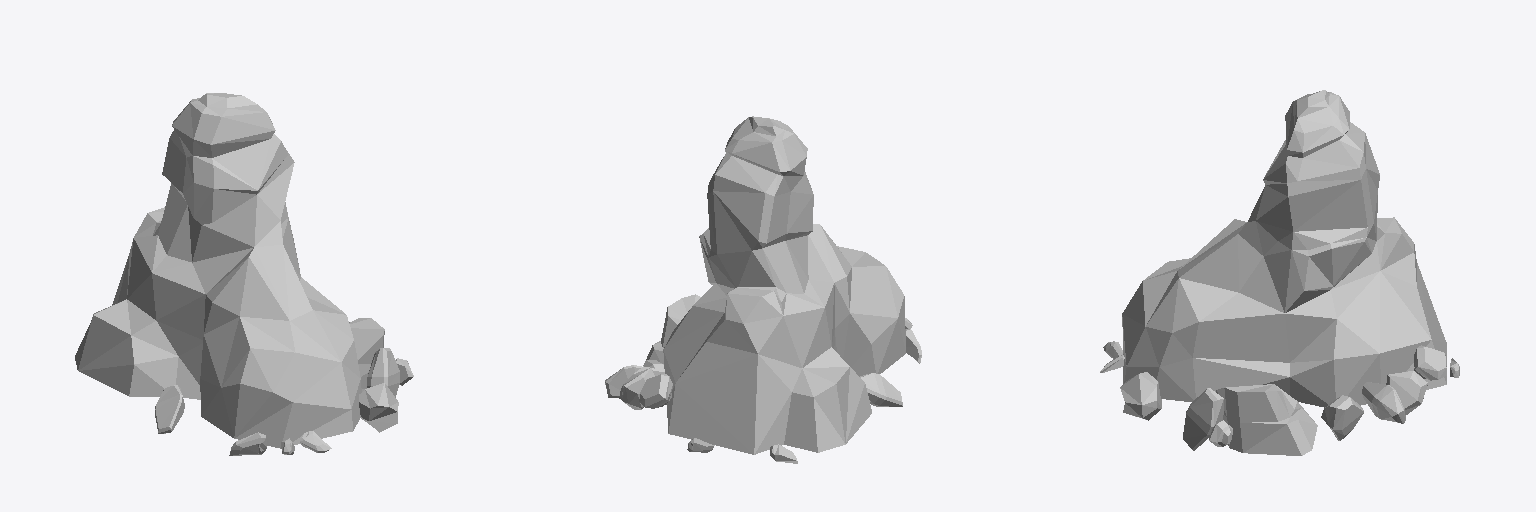
File: column02.obj
3 renders of one model, left to right at view 1: azimuth 30°, elevation 25°; view 2: azimuth 150°, elevation 25°; view 3: azimuth 270°, elevation 25°, orthographic.
Parts seen in each view (by area): view 1: Column02; view 2: Column02; view 3: Column02.
Part boxes in pixels (left/top/right/bottom): Column02: left=75, top=93, right=413, bottom=455; Column02: left=605, top=116, right=921, bottom=463; Column02: left=1100, top=90, right=1459, bottom=455.
Bounding box in the file's own units: 9.29 × 10.58 × 11.33.